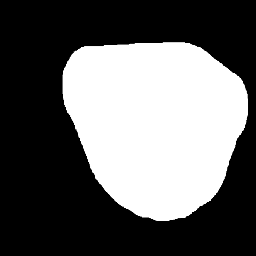mass: (65, 51, 241, 202)
